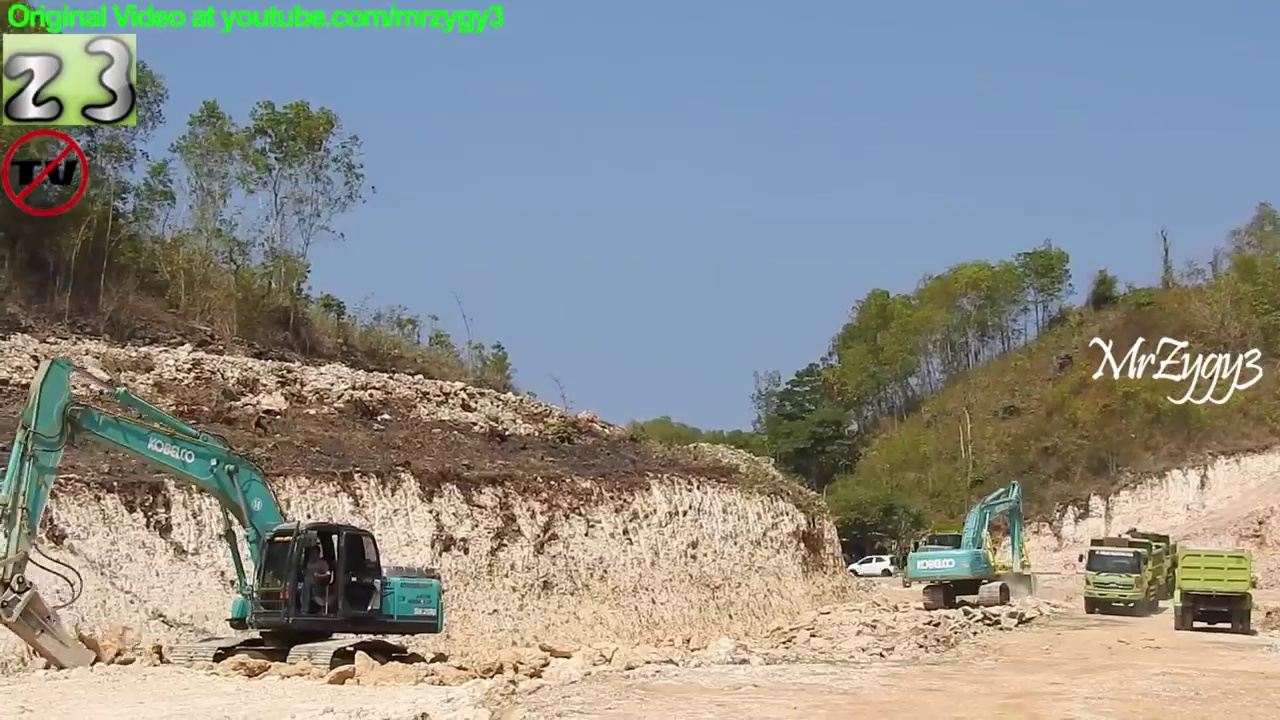excavator: (903, 478, 1041, 614)
excavator breaker: (2, 355, 450, 682)
truck: (1174, 541, 1262, 640), (1075, 536, 1165, 620), (1088, 527, 1178, 609)
